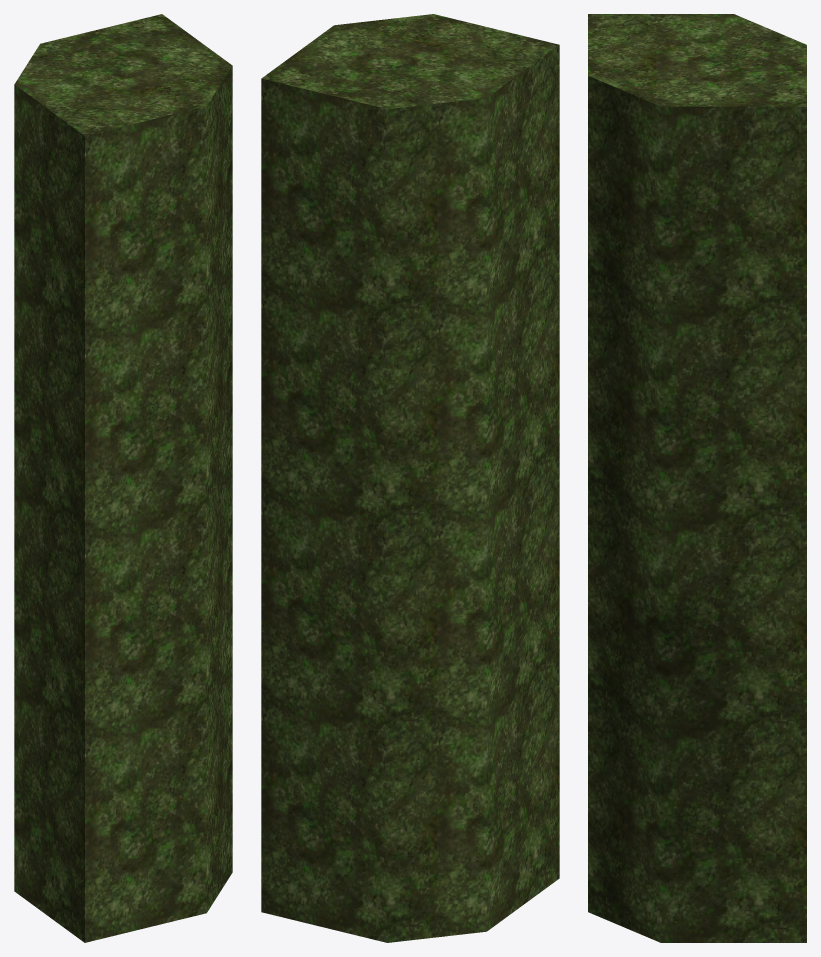
Rendered from OVERHILL_A_01_LINE161.fbx.
3 renders of one model, left to right at view 1: azimuth 30°, elevation 25°; view 2: azimuth 150°, elevation 25°; view 3: azimuth 270°, elevation 25°, orthographic. The views are drawn at different scales.
Visible parts, largest first — view 1: OVERHILL_A_01_LINE161; view 2: OVERHILL_A_01_LINE161; view 3: OVERHILL_A_01_LINE161.
Boxes of the visible parts, x1,y1,x2,y2 form: OVERHILL_A_01_LINE161: [14, 14, 232, 942]; OVERHILL_A_01_LINE161: [261, 14, 559, 942]; OVERHILL_A_01_LINE161: [588, 14, 806, 942].
Bounding box in the file's own units: 30000 × 126458 × 30000.
Materials: 1 (1 with a texture image).
